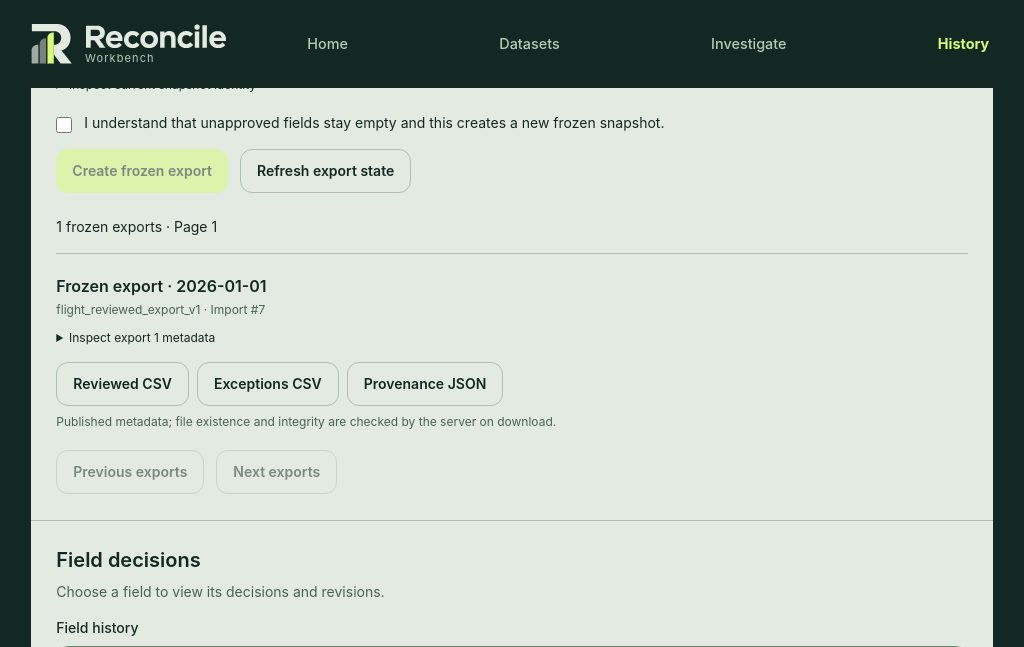
Scenario: downloads Exceptions CSV using backend URLs without POST or regeneration
(page scrolled)
Check: the text "Current snapshot: 4 fields · 1 ungroupable observations" is shown, box x1=56 y1=50 x2=423 y2=67
What coordinates should you click on to do the following:
click the button "Exceptions CSV"
I would click on:
 (268, 384)
Its box is x1=197 y1=362 x2=339 y2=406.
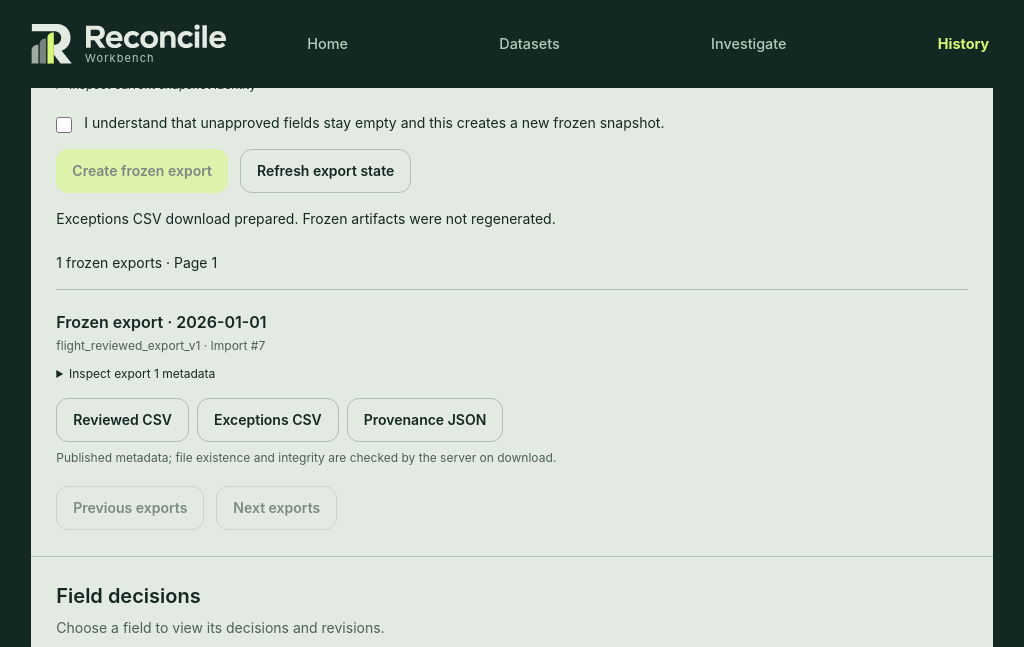
Check: the text "Exceptions CSV download prepared. Frozen artifacts were not regenerated." is shown, box x1=56 y1=210 x2=556 y2=227
